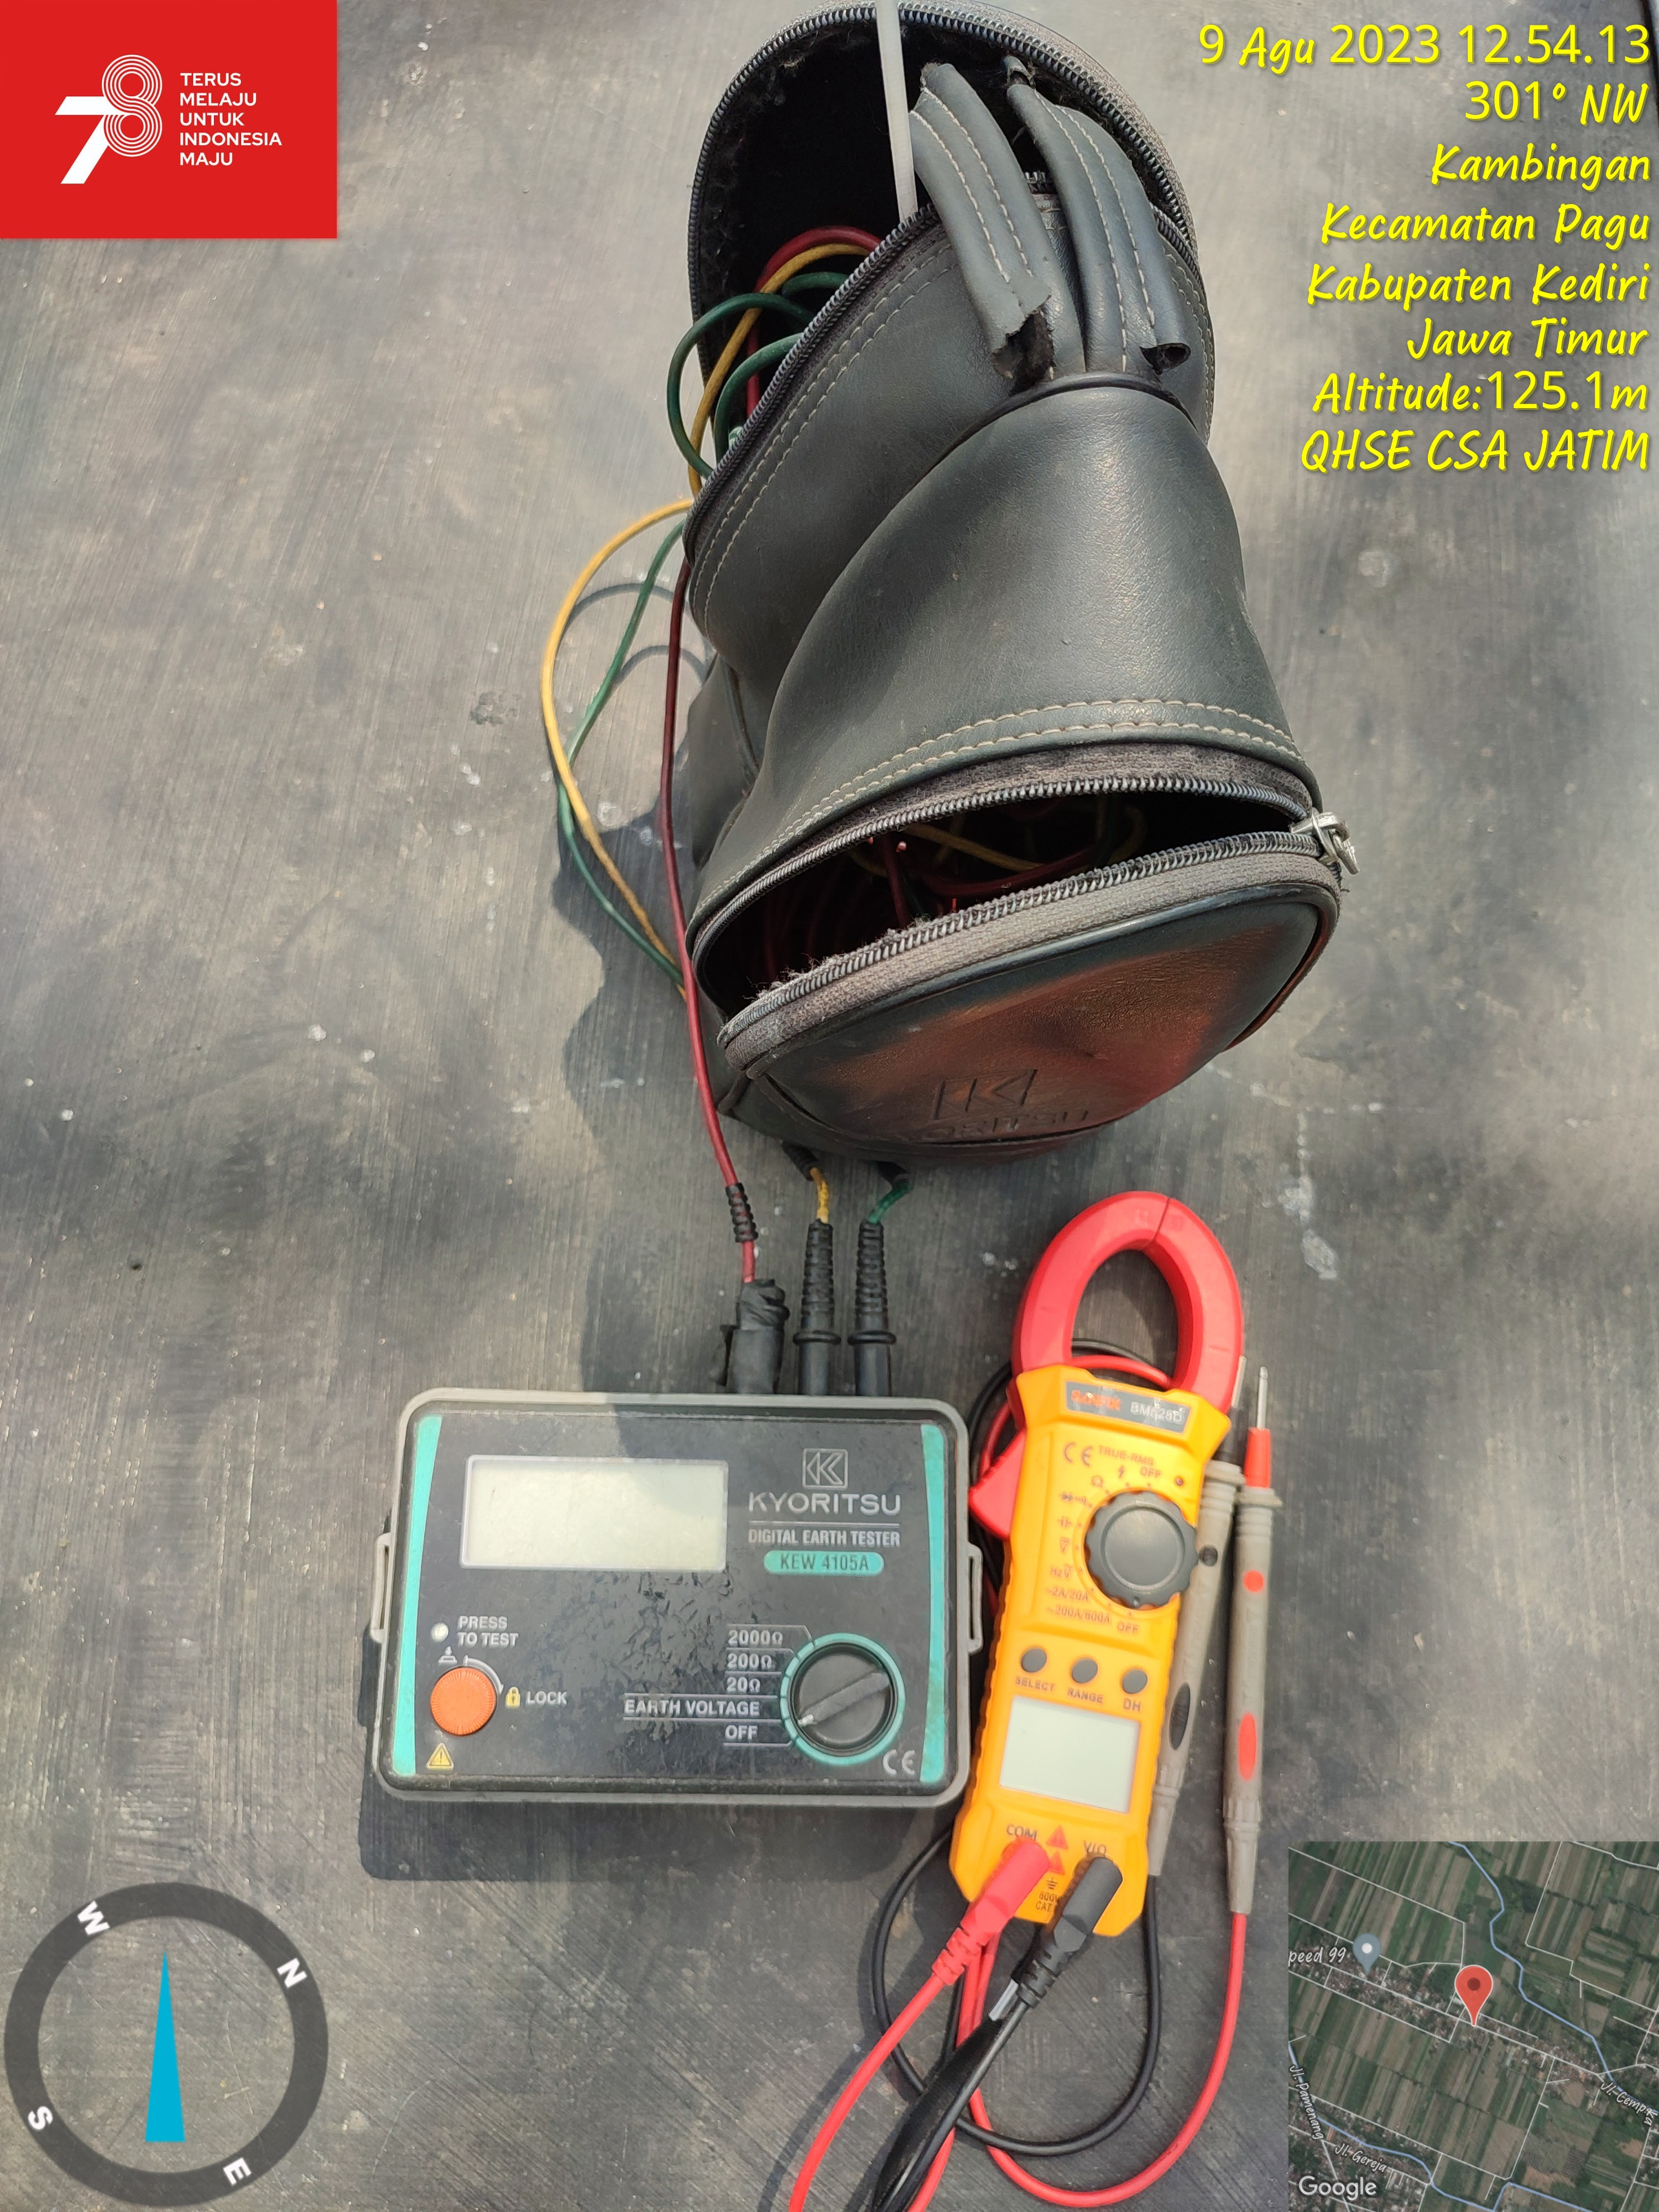EARTH_GROUNDING_TESTER: (366, 1383, 967, 1806)
TANG_AMPERE: (951, 1190, 1244, 1932)
